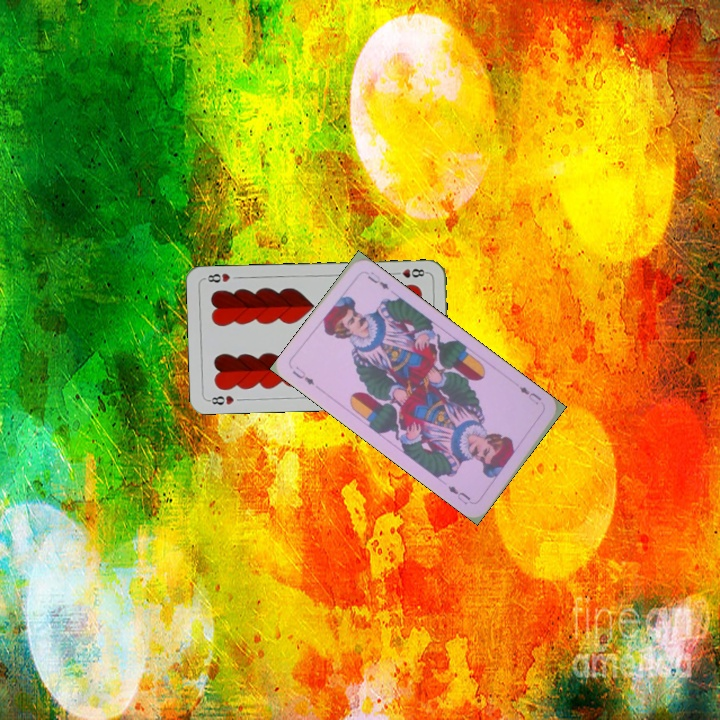EU: (288, 362, 317, 388), (515, 382, 544, 407)
H8: (389, 264, 430, 280), (204, 391, 236, 407)
